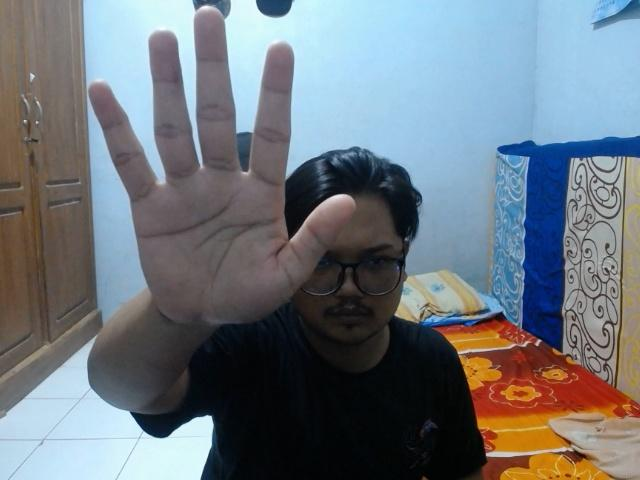Release: (82, 2, 362, 335)
